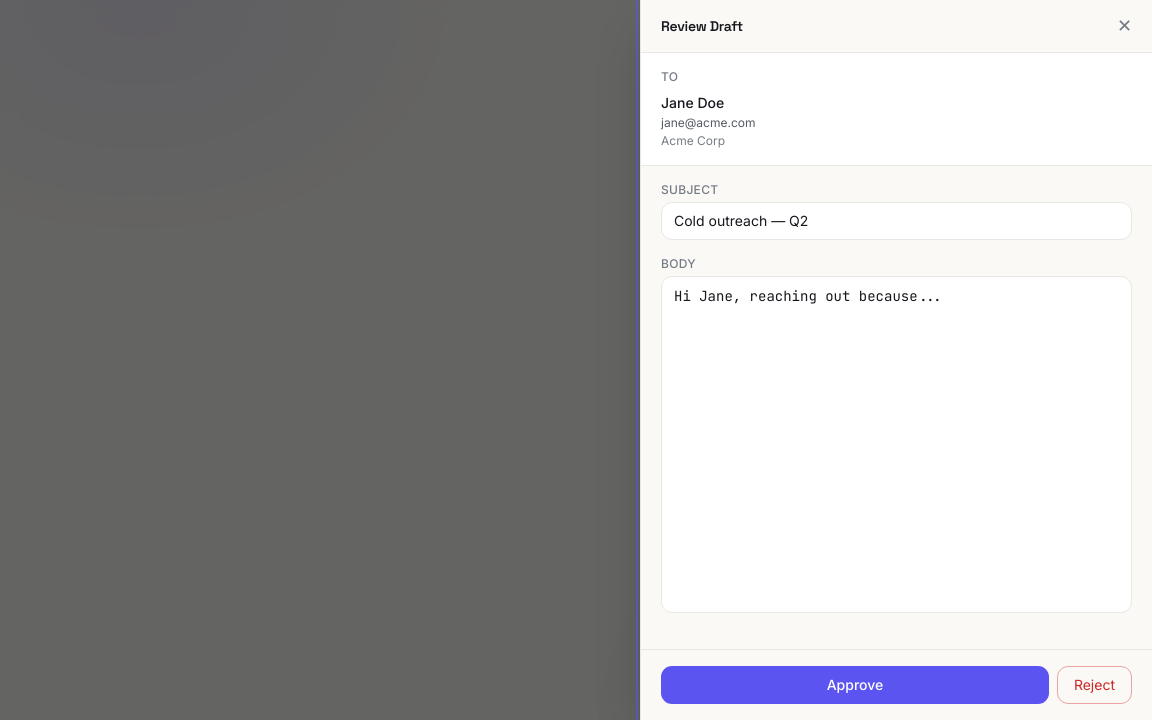
it: DraftReviewDrawer › shows edited indicator when subject is changed
This screenshot has width=1152, height=720.
Replace the text in the field labelled "Subject" with "New subject" at (896, 221), box [661,202,1132,240]
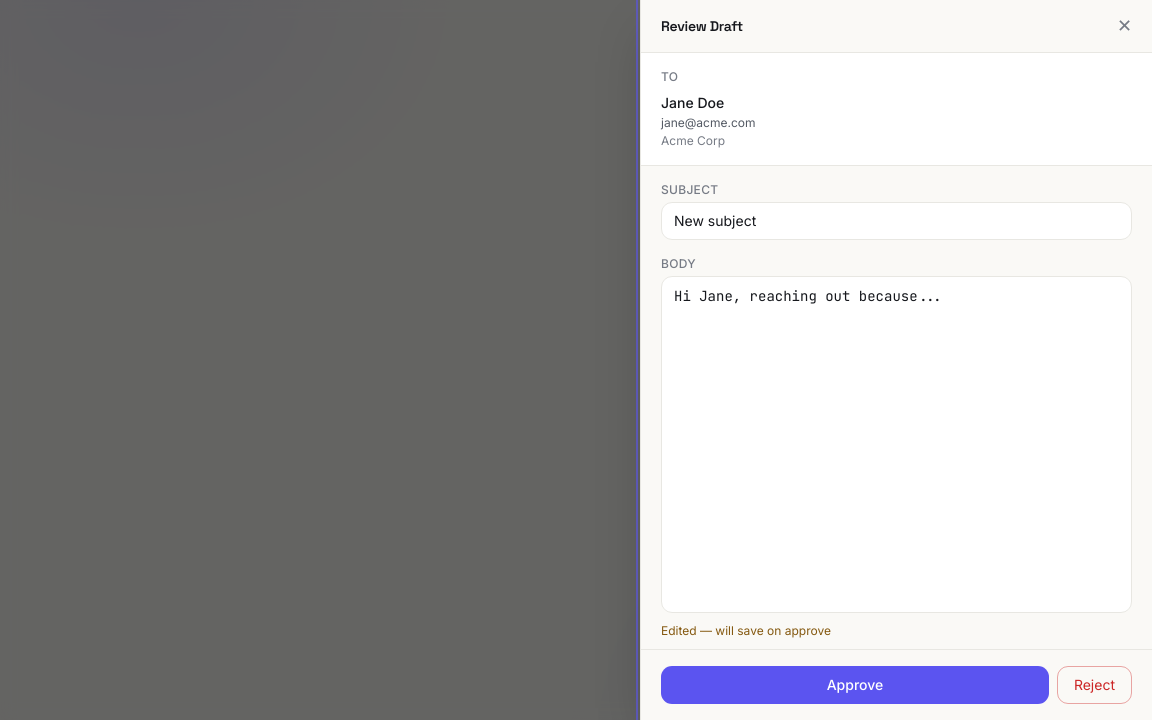
Expected: the text "Edited — will save on approve" is shown, [661,622,831,638]
